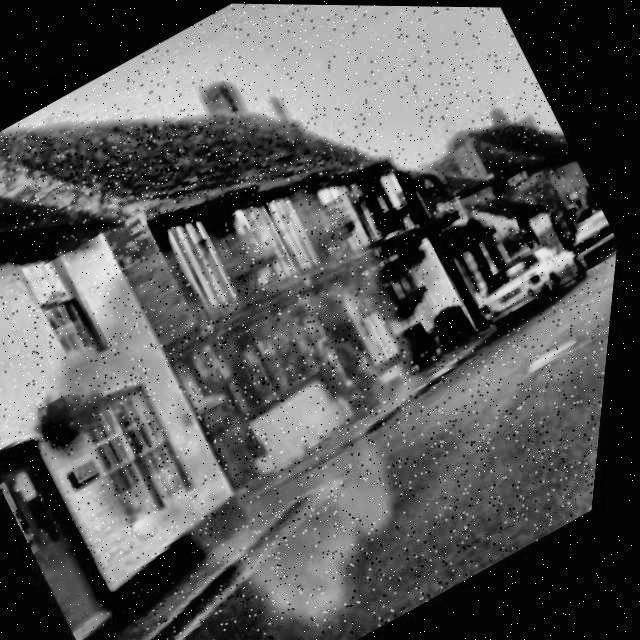Smoke: (0, 101, 565, 640)
